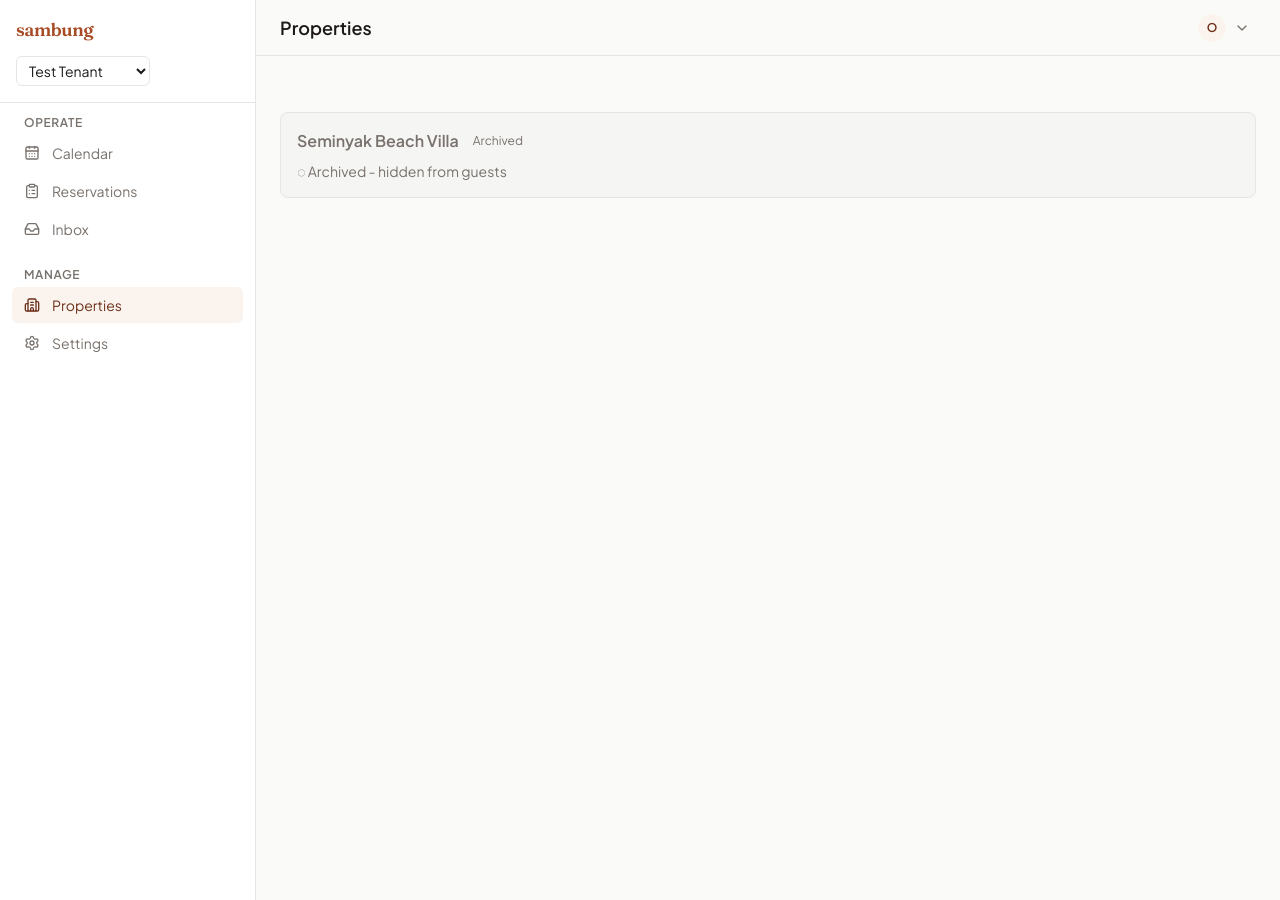
Test: workspace switcher (#154) › switches tenant, and the next read is scoped to the new one
Expected: the text "Seminyak Beach Villa" is shown, [297, 129, 459, 153]
Select "Ubud Retreats" in the dropdown at (83, 71), box [16, 56, 150, 86]
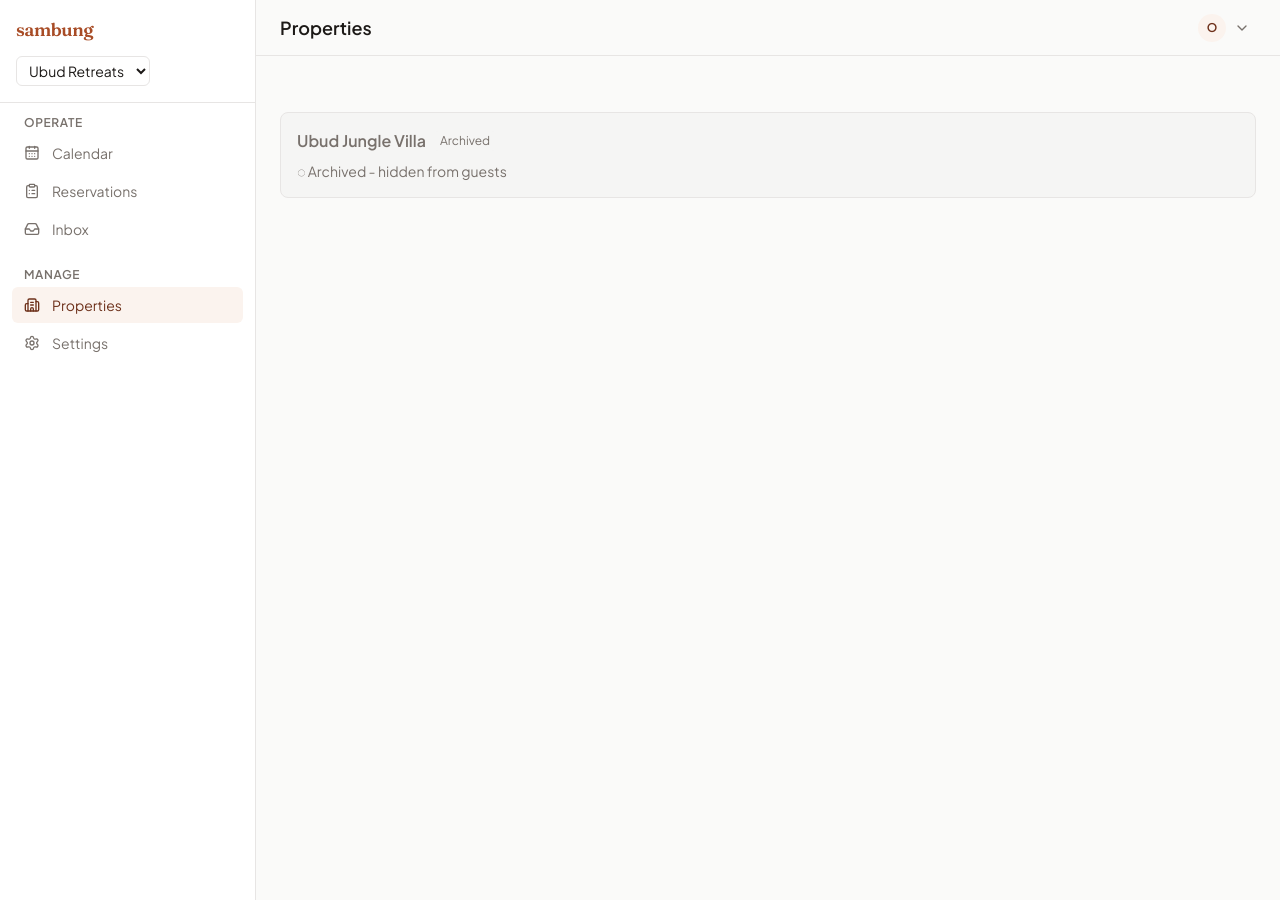
Result: the text "Ubud Jungle Villa" is shown at [297, 129, 426, 153]
Result: the link "Seminyak Beach Villa" is gone
